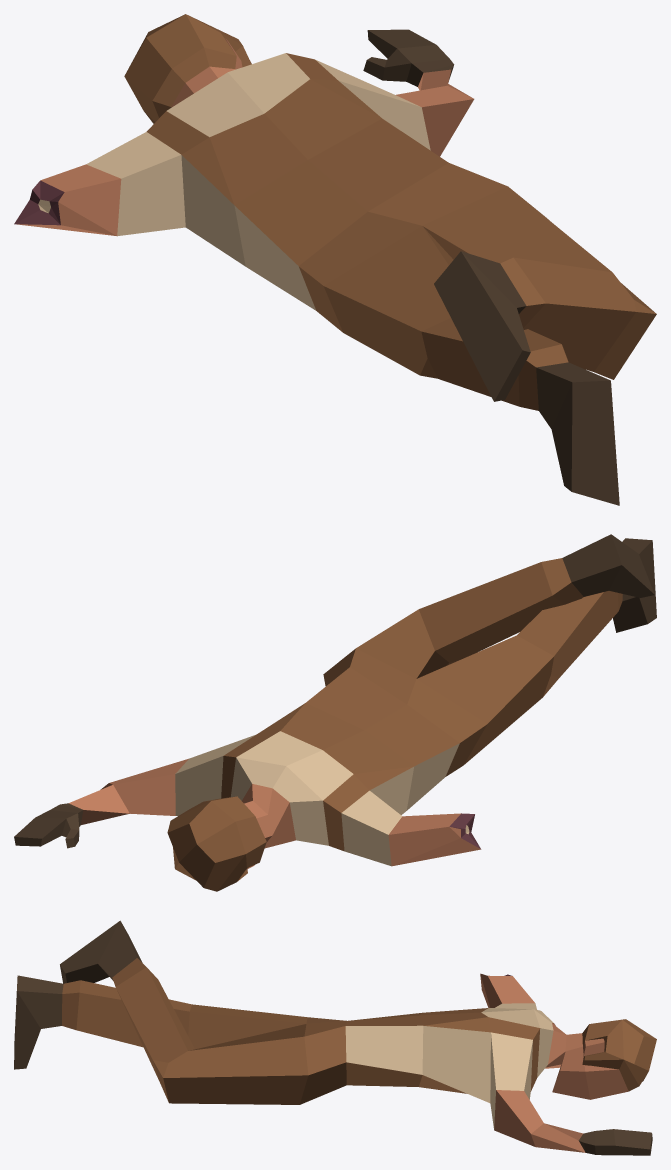
File: man-construction-worker-dead-a.fbx
The picture shows the model from 3 angles, top to bottom: view 1: azimuth 30°, elevation 25°; view 2: azimuth 150°, elevation 25°; view 3: azimuth 270°, elevation 25°; orthographic projection. The views are drawn at different scales.
Parts seen in each view (by area): view 1: man-construction-worker-dead-a; view 2: man-construction-worker-dead-a; view 3: man-construction-worker-dead-a.
Boxes of the visible parts, x1,y1,x2,y2 form: man-construction-worker-dead-a: (14,14,656,505); man-construction-worker-dead-a: (14,534,656,891); man-construction-worker-dead-a: (14,920,656,1155).
Bounding box in the file's own units: 1.03 × 0.4053 × 1.81.
